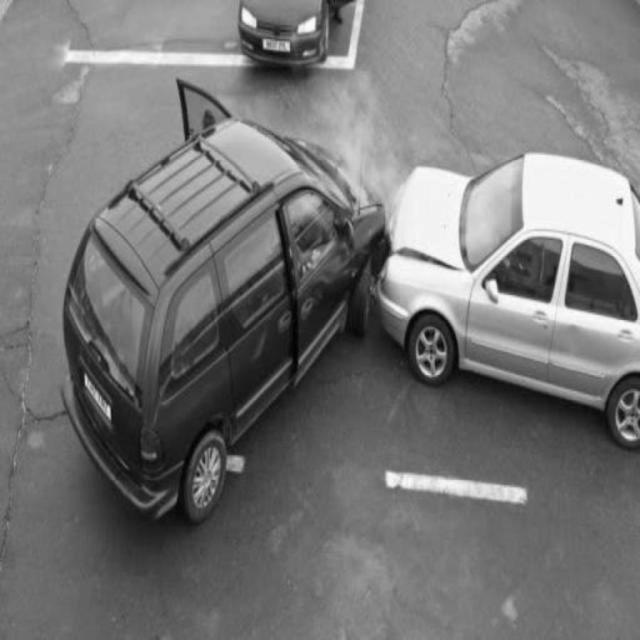accident: (62, 120, 640, 523)
vehicle: (236, 0, 347, 70)
